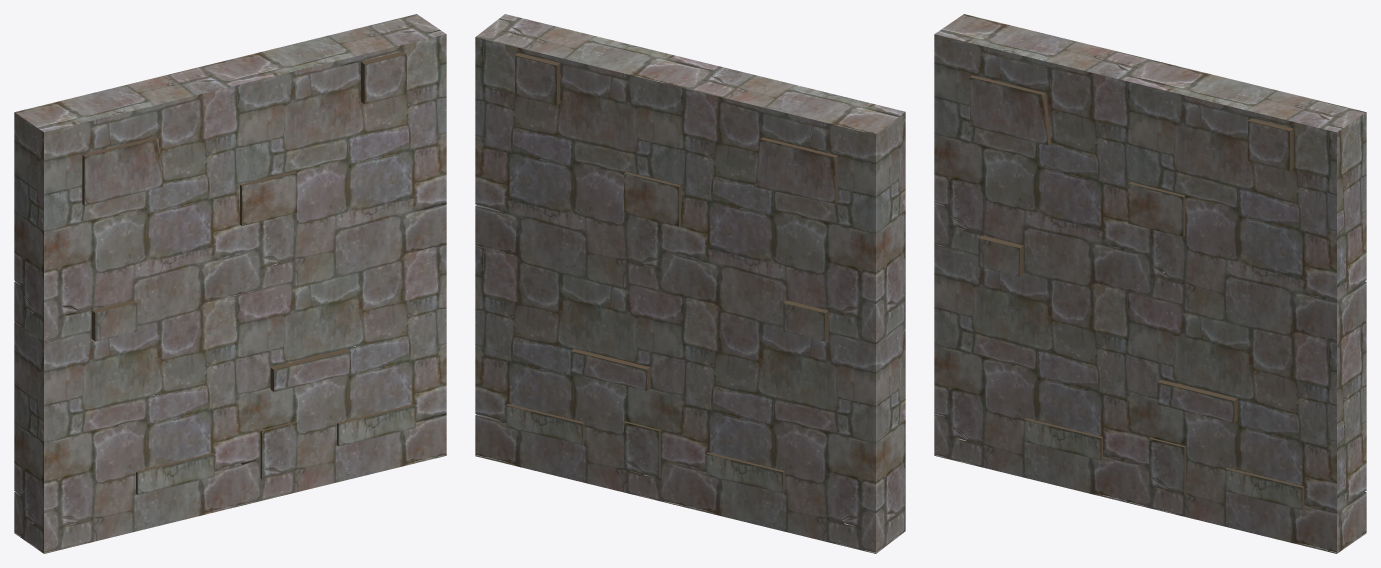
The picture shows the model from 3 angles, left to right: view 1: azimuth 30°, elevation 25°; view 2: azimuth 150°, elevation 25°; view 3: azimuth 330°, elevation 25°; orthographic projection.
Visible parts, largest first — view 1: SM_BB_T3_Wall_Large_LOD0; view 2: SM_BB_T3_Wall_Large_LOD0; view 3: SM_BB_T3_Wall_Large_LOD0.
Boxes of the visible parts, box(x1,y1,x2,y2) form: SM_BB_T3_Wall_Large_LOD0: box(14, 14, 446, 553); SM_BB_T3_Wall_Large_LOD0: box(475, 14, 905, 553); SM_BB_T3_Wall_Large_LOD0: box(934, 14, 1366, 553).
Size of the model in its own units: 3 by 3.01 by 0.4788.
1 material, 1 textured.
